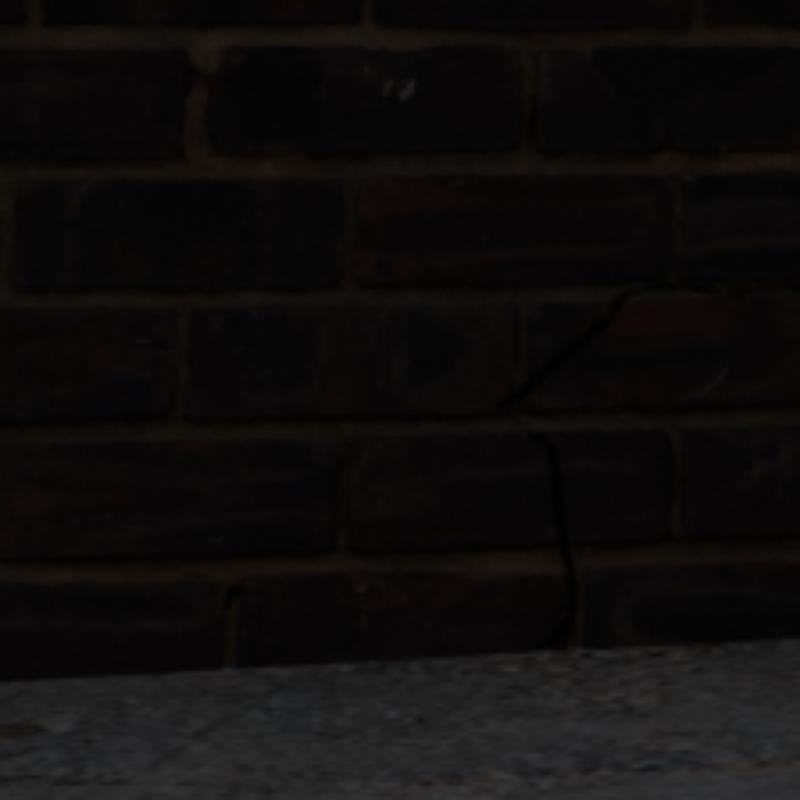crack: (489, 282, 739, 650)
